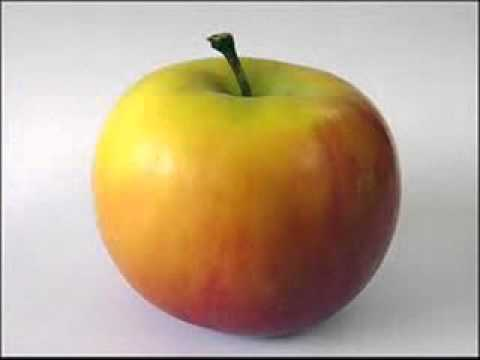apple: (91, 49, 408, 338)
